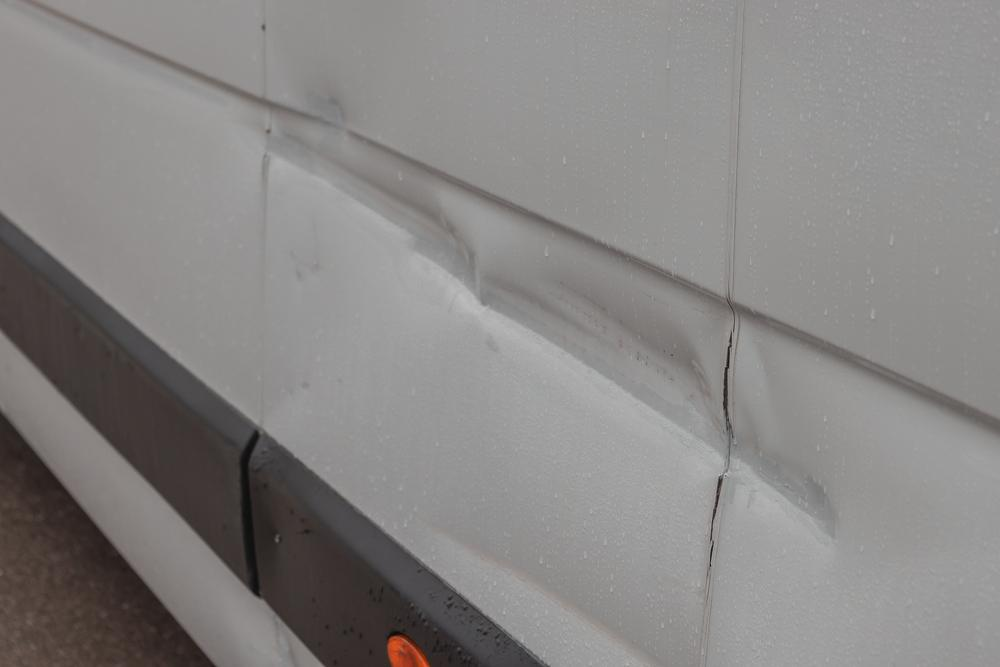dent: (266, 78, 724, 482), (727, 337, 849, 543)
